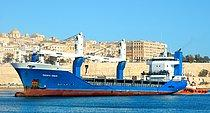Ship: (10, 47, 190, 99)
